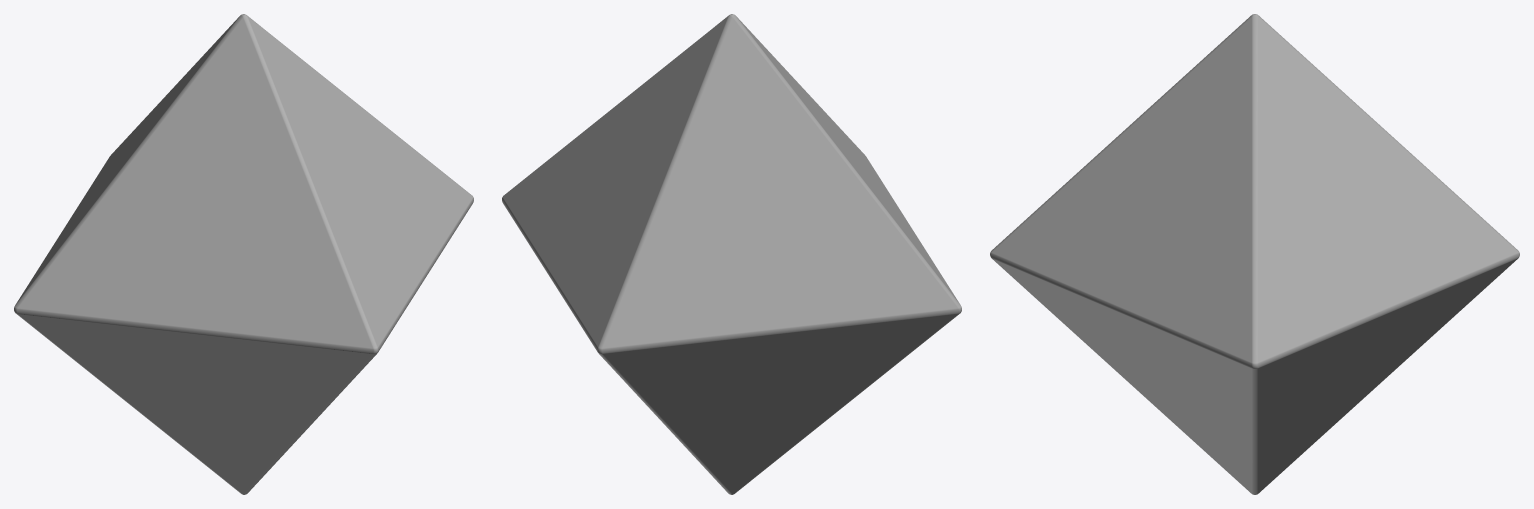
Rendered from Coil_Head.glb.
3 views of the same model, side by side, from view 1: azimuth 30°, elevation 25°; view 2: azimuth 150°, elevation 25°; view 3: azimuth 270°, elevation 25° (orthographic).
Parts seen in each view (by area): view 1: node_id30; view 2: node_id30; view 3: node_id30.
Part boxes in pixels (x1,y1,x2,y2): node_id30: [14, 14, 473, 494]; node_id30: [502, 14, 961, 494]; node_id30: [990, 14, 1519, 494].
Size of the model in its own units: 0.512 by 0.512 by 0.512.
1 material, 1 textured.
